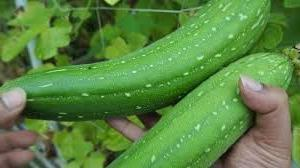sponge gourd: (0, 0, 272, 121), (104, 49, 294, 167)
